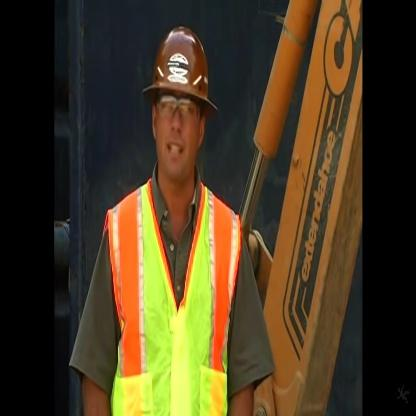helmet: (146, 19, 208, 193)
